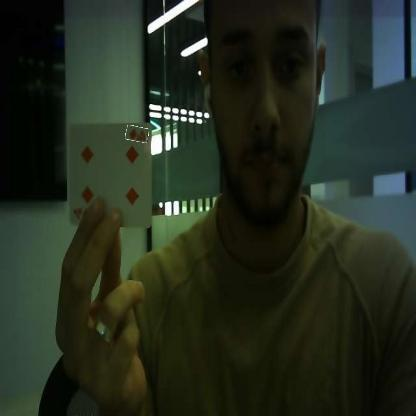4D: (126, 126, 148, 142)
